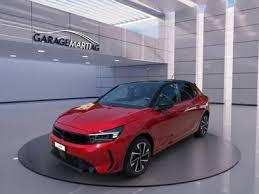opel: (46, 79, 211, 180)
